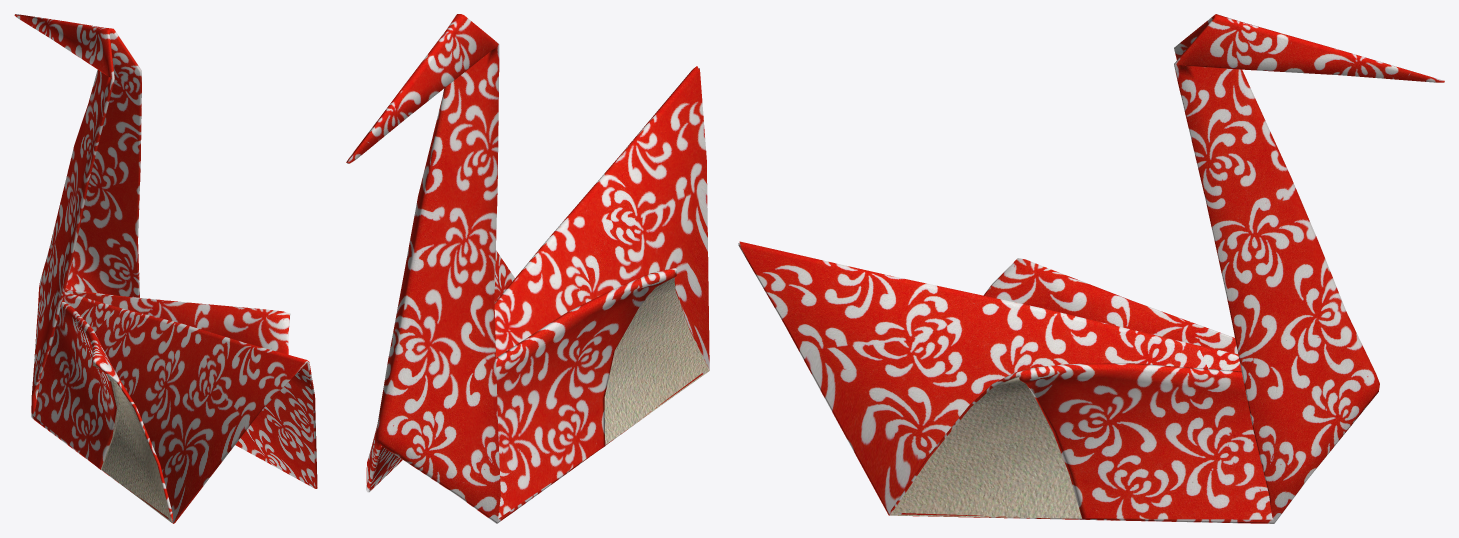
The model's file is swan.fbx.
3 renders of one model, left to right at view 1: azimuth 30°, elevation 25°; view 2: azimuth 150°, elevation 25°; view 3: azimuth 270°, elevation 25°, orthographic. The views are drawn at different scales.
Visible parts, largest first — view 1: swan; view 2: swan; view 3: swan.
Boxes of the visible parts, x1,y1,x2,y2 form: swan: (14, 14, 317, 523); swan: (346, 14, 709, 523); swan: (738, 14, 1444, 523).
Size of the model in its own units: 3.73 by 7.11 by 9.56.
